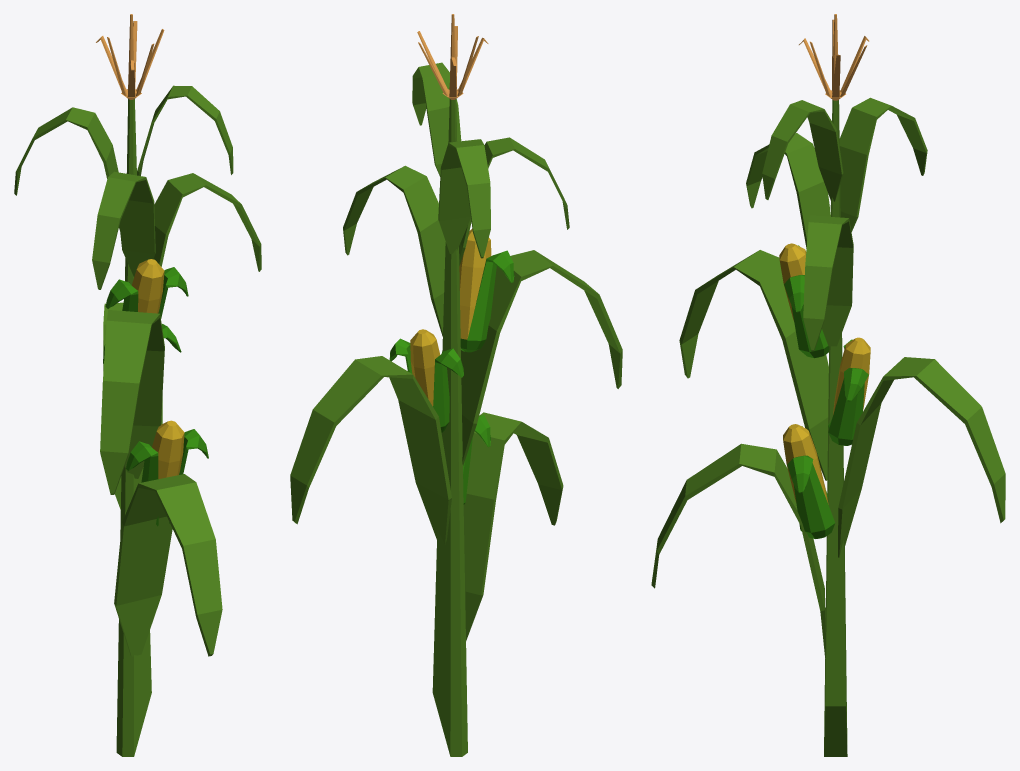
Rendered from Mielie.fbx.
The picture shows the model from 3 angles, left to right: view 1: azimuth 30°, elevation 25°; view 2: azimuth 150°, elevation 25°; view 3: azimuth 270°, elevation 25°; orthographic projection.
Parts seen in each view (by area): view 1: Cylinder; view 2: Cylinder; view 3: Cylinder.
Part boxes in pixels (x1,y1,x2,y2): Cylinder: (14, 14, 261, 756); Cylinder: (290, 14, 622, 756); Cylinder: (651, 14, 1005, 756).
Size of the model in its own units: 732 by 2355 by 1016.
